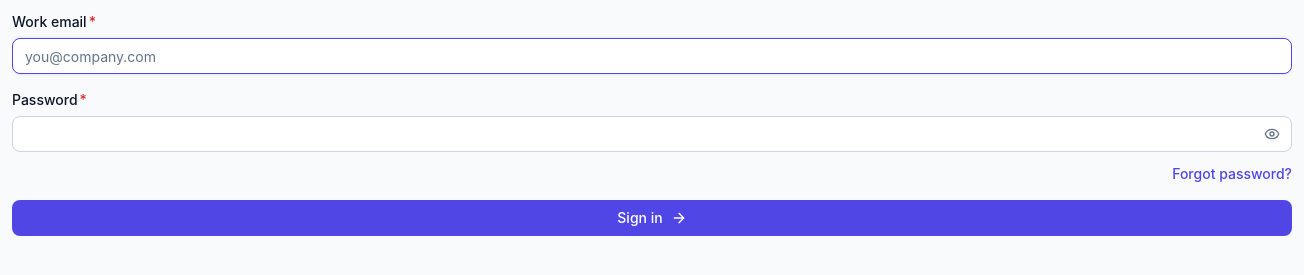
Test case: SignInForm › rejects a malformed email before calling the API
Type "not-an-email" into the field labelled "Work email*" at {"x": 652, "y": 56}, box x1=12 y1=38 x2=1292 y2=74
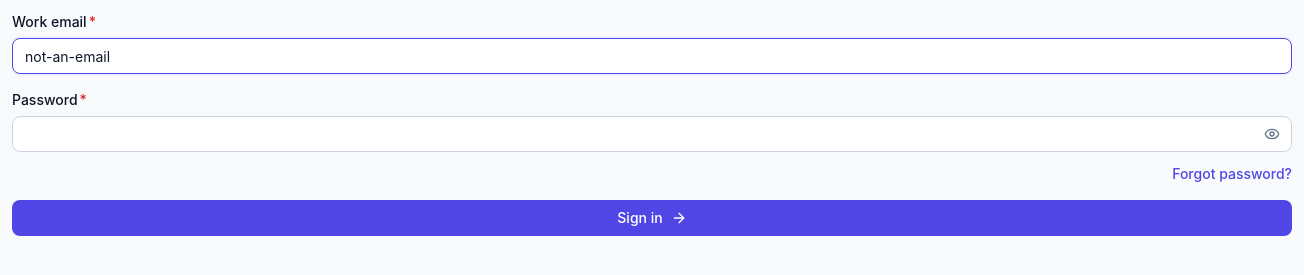
Type "secret-password" into the password field labelled "Password*" at {"x": 652, "y": 134}, box x1=12 y1=116 x2=1292 y2=152
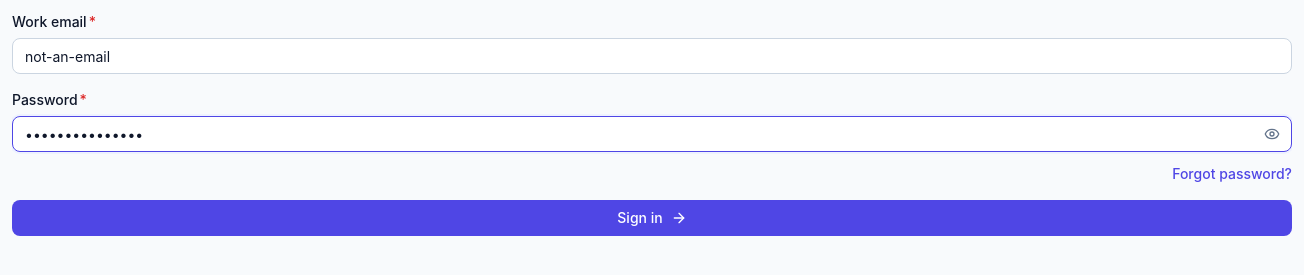
Click the button "Sign in" at {"x": 652, "y": 218}, box x1=12 y1=200 x2=1292 y2=236
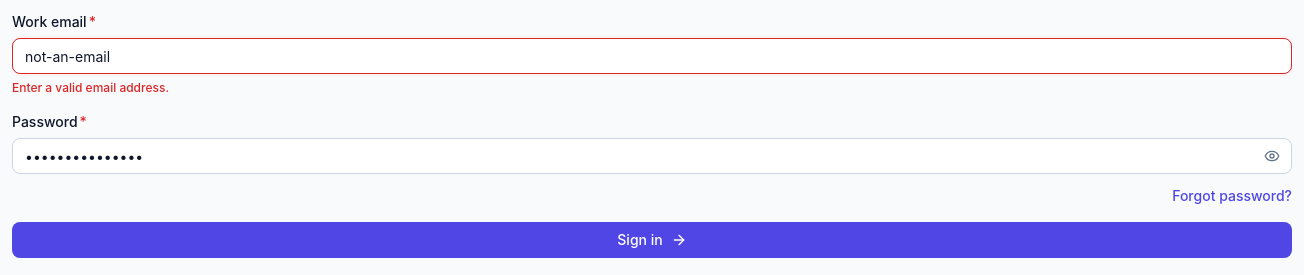
Check: the text "Enter a valid email address." is shown, box x1=12 y1=80 x2=169 y2=95
